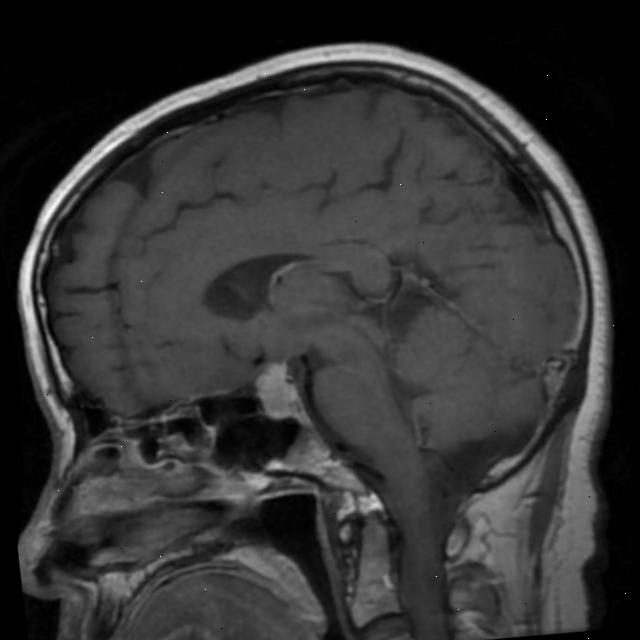Pituitary: (249, 357, 307, 425)
